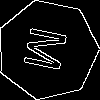M: (22, 25, 77, 75)
